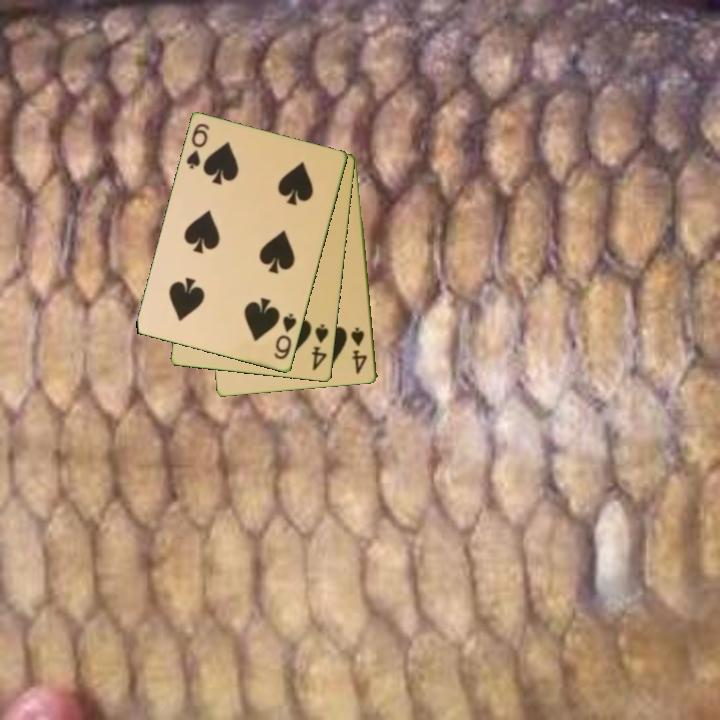4s: (309, 321, 332, 374), (348, 324, 370, 377)
6s: (271, 310, 300, 363), (183, 120, 212, 172)
